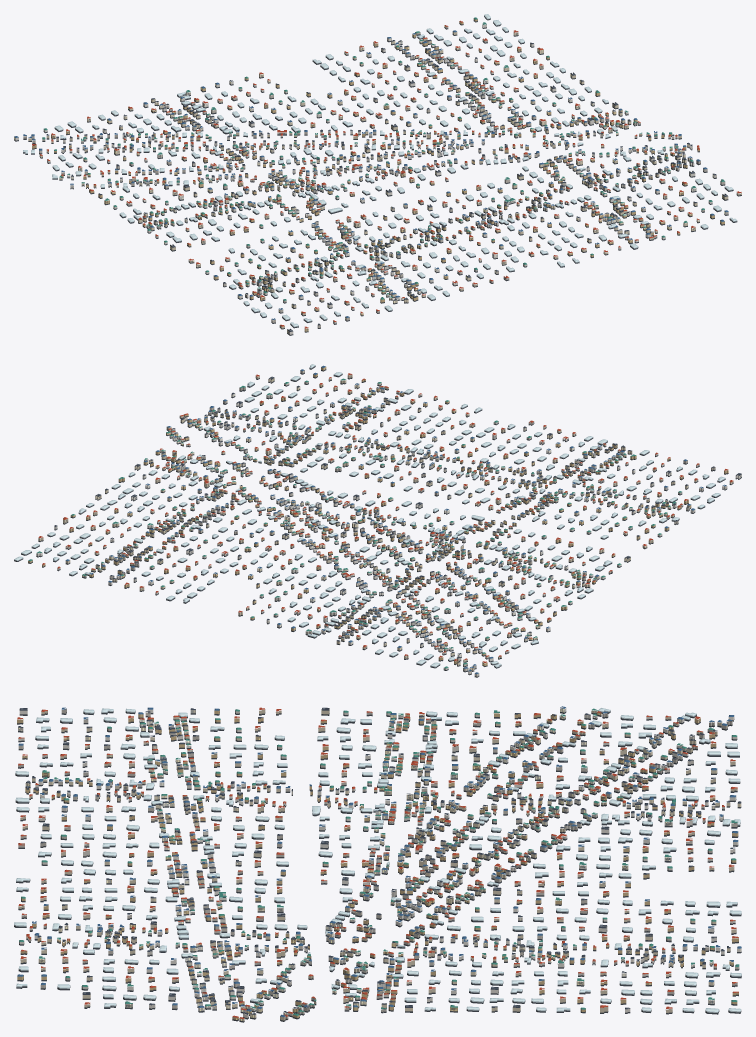
Rendered from osm_buildings_T_E05_S03.glb.
3 renders of one model, top to bottom at view 1: azimuth 30°, elevation 25°; view 2: azimuth 150°, elevation 25°; view 3: azimuth 270°, elevation 25°, orthographic. The views are drawn at different scales.
Parts seen in each view (by area): view 1: OSM_T_E05_S03_foundation, OSM_T_E05_S03_greenhouse_blend, OSM_T_E05_S03_wall_cream_stucco, OSM_T_E05_S03_wall_french_ochre, OSM_T_E05_S03_wall_warm_white, OSM_T_E05_S03_wall_pastel_sand, OSM_T_E05_S03_roof_terracotta, OSM_T_E05_S03_roof_mansard_slate, OSM_T_E05_S03_roof_alpine_blue, OSM_T_E05_S03_roof_mint_metal; view 2: OSM_T_E05_S03_foundation, OSM_T_E05_S03_greenhouse_blend, OSM_T_E05_S03_wall_cream_stucco, OSM_T_E05_S03_wall_french_ochre, OSM_T_E05_S03_wall_warm_white, OSM_T_E05_S03_wall_pastel_sand, OSM_T_E05_S03_roof_terracotta, OSM_T_E05_S03_roof_mansard_slate, OSM_T_E05_S03_roof_alpine_blue, OSM_T_E05_S03_roof_mint_metal; view 3: OSM_T_E05_S03_foundation, OSM_T_E05_S03_greenhouse_blend, OSM_T_E05_S03_wall_cream_stucco, OSM_T_E05_S03_wall_french_ochre, OSM_T_E05_S03_wall_warm_white, OSM_T_E05_S03_wall_pastel_sand, OSM_T_E05_S03_roof_terracotta, OSM_T_E05_S03_roof_mansard_slate, OSM_T_E05_S03_roof_alpine_blue, OSM_T_E05_S03_roof_mint_metal, OSM_T_E05_S03_roof_mansard_deck, OSM_T_E05_S03_glass_blend_85.
Part boxes in pixels (x1,y1,x2,y2): OSM_T_E05_S03_foundation: [14, 16, 741, 335]; OSM_T_E05_S03_greenhouse_blend: [23, 14, 737, 326]; OSM_T_E05_S03_wall_cream_stucco: [28, 31, 741, 328]; OSM_T_E05_S03_wall_french_ochre: [32, 18, 724, 331]; OSM_T_E05_S03_wall_warm_white: [14, 23, 716, 334]; OSM_T_E05_S03_wall_pastel_sand: [23, 25, 728, 327]; OSM_T_E05_S03_roof_terracotta: [32, 20, 741, 328]; OSM_T_E05_S03_roof_mansard_slate: [46, 39, 727, 331]; OSM_T_E05_S03_roof_alpine_blue: [14, 30, 728, 319]; OSM_T_E05_S03_roof_mint_metal: [42, 17, 724, 300]; OSM_T_E05_S03_foundation: [14, 366, 741, 677]; OSM_T_E05_S03_greenhouse_blend: [14, 364, 725, 667]; OSM_T_E05_S03_wall_cream_stucco: [38, 375, 733, 670]; OSM_T_E05_S03_wall_french_ochre: [28, 367, 728, 665]; OSM_T_E05_S03_wall_warm_white: [36, 382, 741, 676]; OSM_T_E05_S03_wall_pastel_sand: [57, 370, 727, 673]; OSM_T_E05_S03_roof_terracotta: [38, 373, 733, 662]; OSM_T_E05_S03_roof_mansard_slate: [54, 377, 741, 662]; OSM_T_E05_S03_roof_alpine_blue: [65, 365, 726, 673]; OSM_T_E05_S03_roof_mint_metal: [28, 378, 681, 668]; OSM_T_E05_S03_foundation: [14, 711, 741, 1022]; OSM_T_E05_S03_greenhouse_blend: [14, 708, 741, 1012]; OSM_T_E05_S03_wall_cream_stucco: [18, 709, 741, 1021]; OSM_T_E05_S03_wall_french_ochre: [17, 709, 738, 1019]; OSM_T_E05_S03_wall_warm_white: [18, 707, 741, 1017]; OSM_T_E05_S03_wall_pastel_sand: [18, 708, 739, 1018]; OSM_T_E05_S03_roof_terracotta: [17, 707, 738, 1018]; OSM_T_E05_S03_roof_mansard_slate: [18, 708, 741, 1014]; OSM_T_E05_S03_roof_alpine_blue: [17, 706, 741, 1017]; OSM_T_E05_S03_roof_mint_metal: [19, 708, 739, 1015]; OSM_T_E05_S03_roof_mansard_deck: [20, 707, 700, 1006]; OSM_T_E05_S03_glass_blend_85: [19, 711, 733, 1018].
Bounding box in the file's own units: 1985 × 57.29 × 1893.
